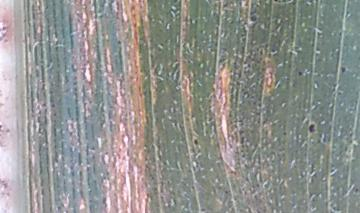tarspot: (307, 121, 317, 134), (190, 136, 199, 147), (340, 63, 348, 73), (297, 69, 303, 76), (117, 38, 122, 45), (354, 187, 358, 193)
